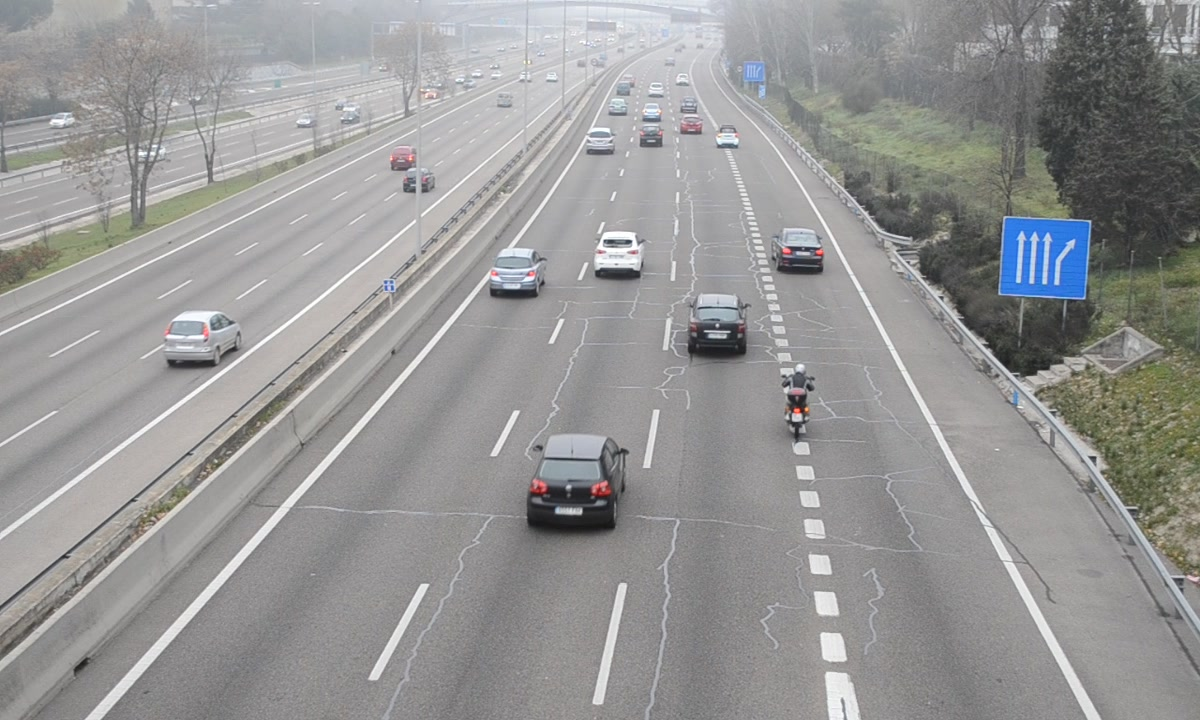car: (528, 433, 622, 527), (686, 294, 745, 352), (488, 249, 543, 295), (775, 228, 825, 273), (595, 232, 645, 274), (585, 126, 617, 157), (717, 123, 741, 150), (639, 123, 662, 147)
motorcycle: (780, 363, 818, 440)
